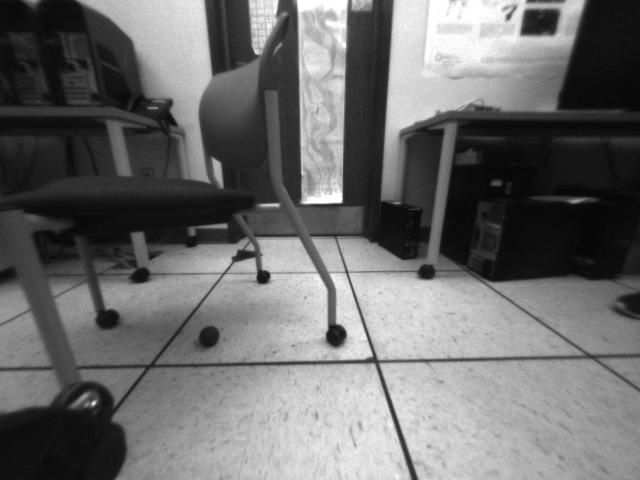dogtoy: (192, 318, 228, 353)
